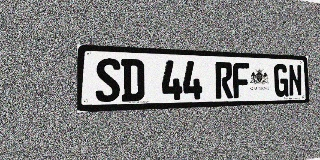4: (162, 60, 182, 100), (183, 61, 202, 100)
D: (121, 59, 144, 102)
F: (233, 62, 250, 98)
G: (274, 64, 288, 97)
N: (288, 64, 302, 97)
R: (215, 62, 233, 99)
S: (96, 58, 120, 102)
